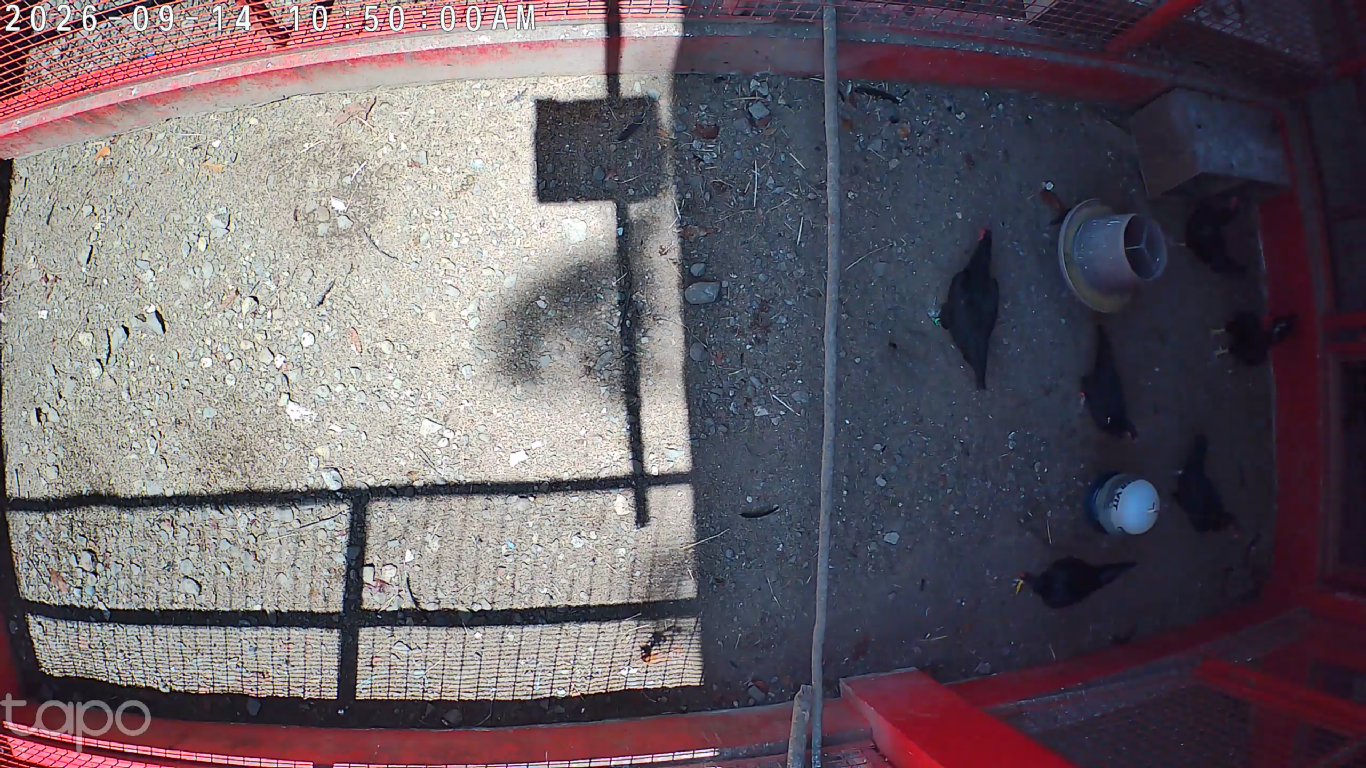Chicken: (926, 224, 1002, 397), (1075, 325, 1142, 441), (1009, 553, 1139, 612)
Leg_Band_Green: (934, 316, 941, 326)
Leg_Band_Pink: (1078, 392, 1089, 400)
Leg_Band_Yellow: (1016, 577, 1027, 595)
